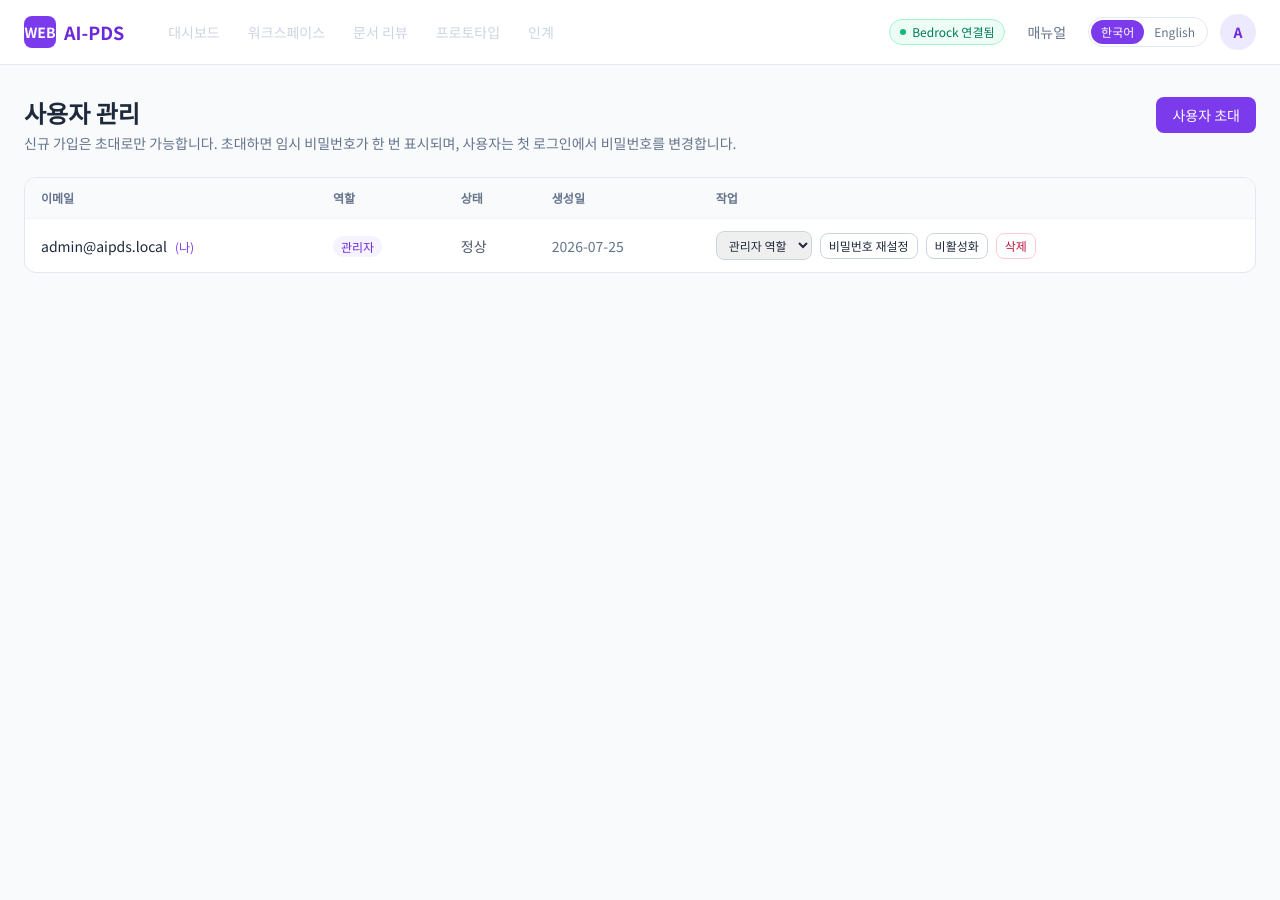
Test: /admin/users › opens the invite modal
This screenshot has width=1280, height=900.
Expected: the text "admin@aipds.local" is shown, [41,236,167,256]
Click the button "사용자 초대" at [1206, 115], box [1156,97,1256,133]
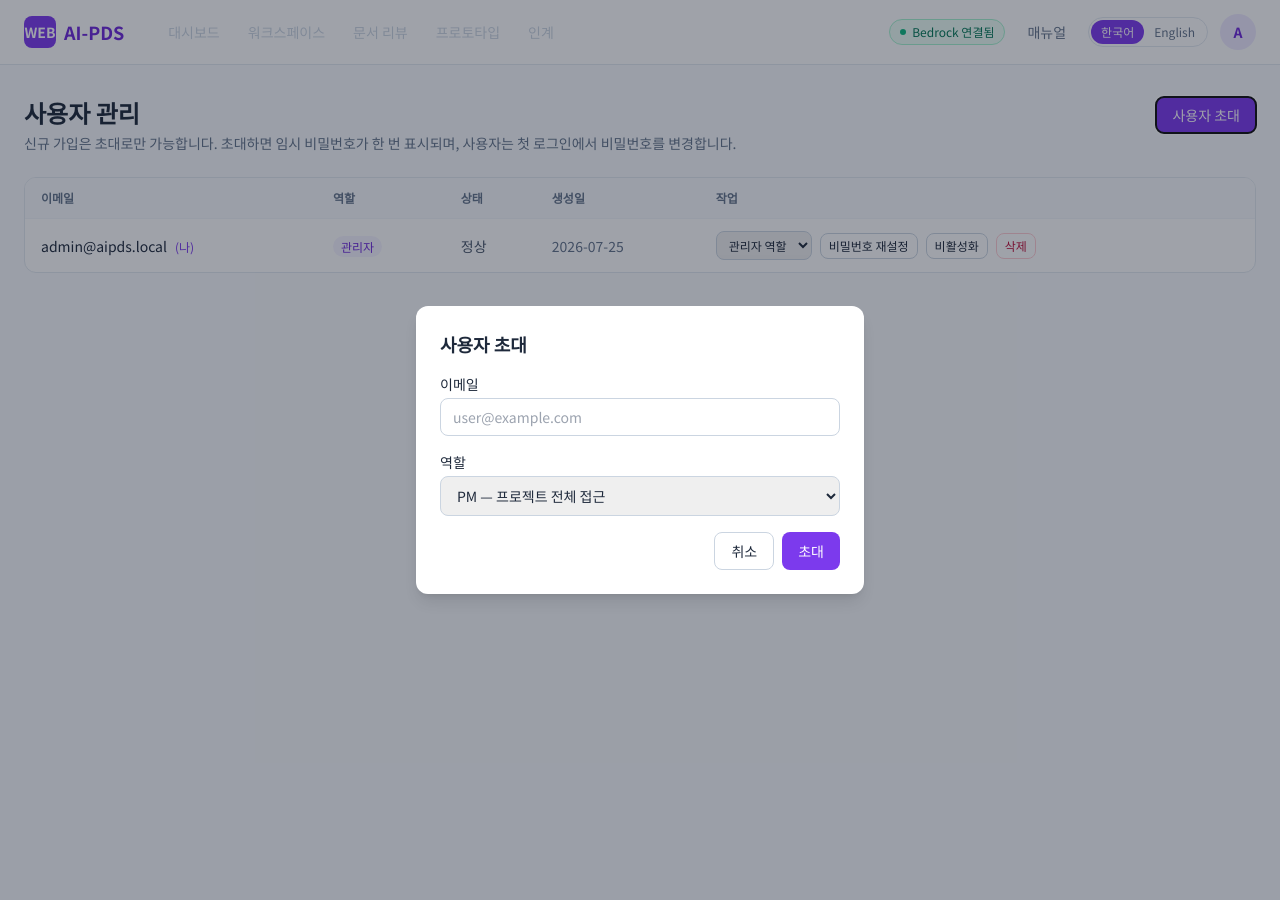
Now the field labelled "이메일" is shown, box [440,398,840,436]
